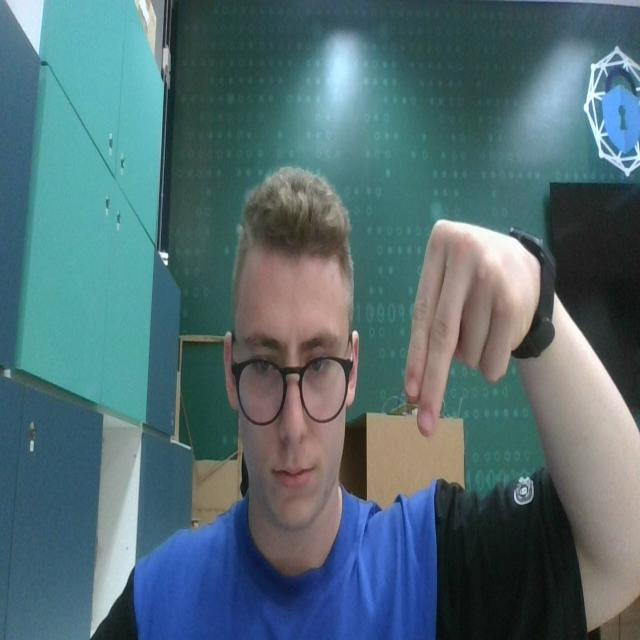N: (400, 206, 522, 443)
